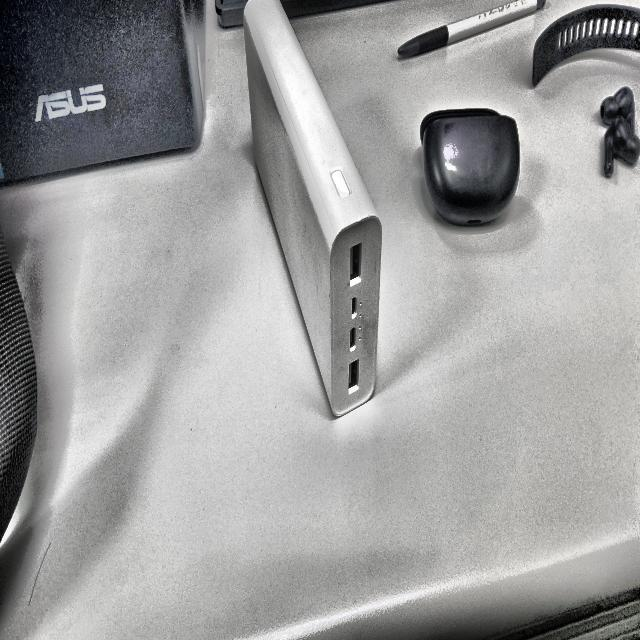Bluetooth headphones: (420, 109, 520, 225), (601, 87, 640, 177)
Power bank: (244, 0, 381, 415)
